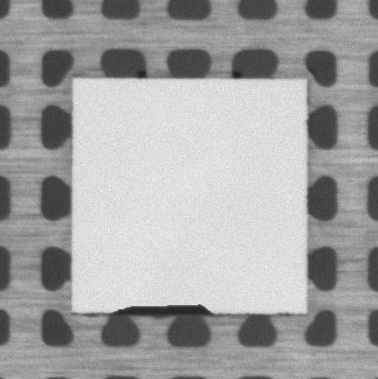DIE_BROKEN: (109, 302, 216, 315)
